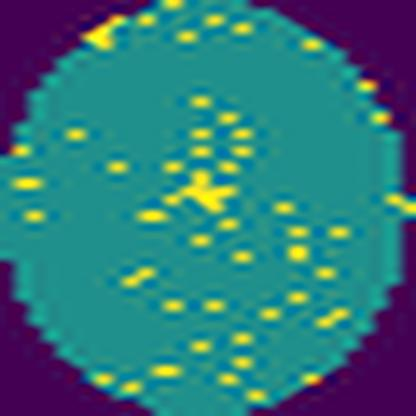Center: (156, 162, 242, 216)
